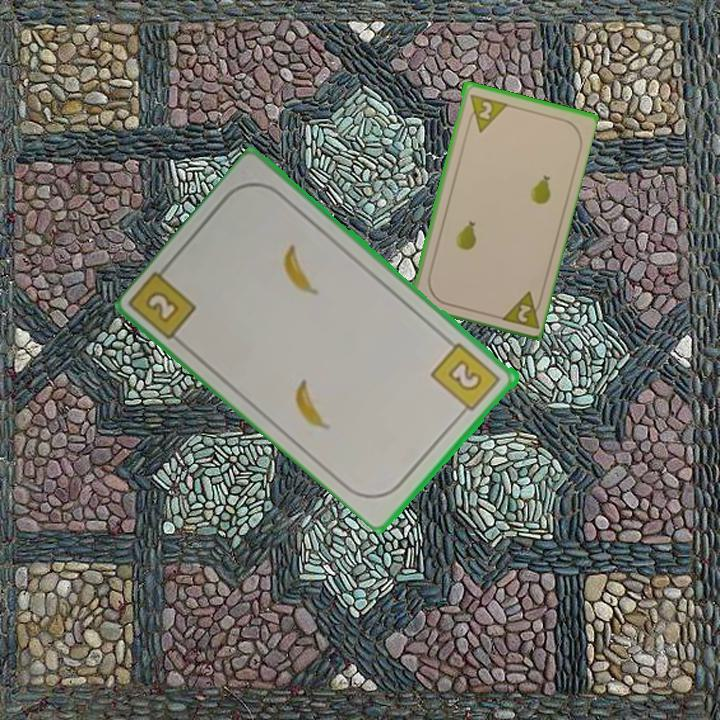2b: (428, 339, 504, 419), (142, 287, 183, 326)
2p: (495, 287, 545, 331), (474, 97, 495, 122)
